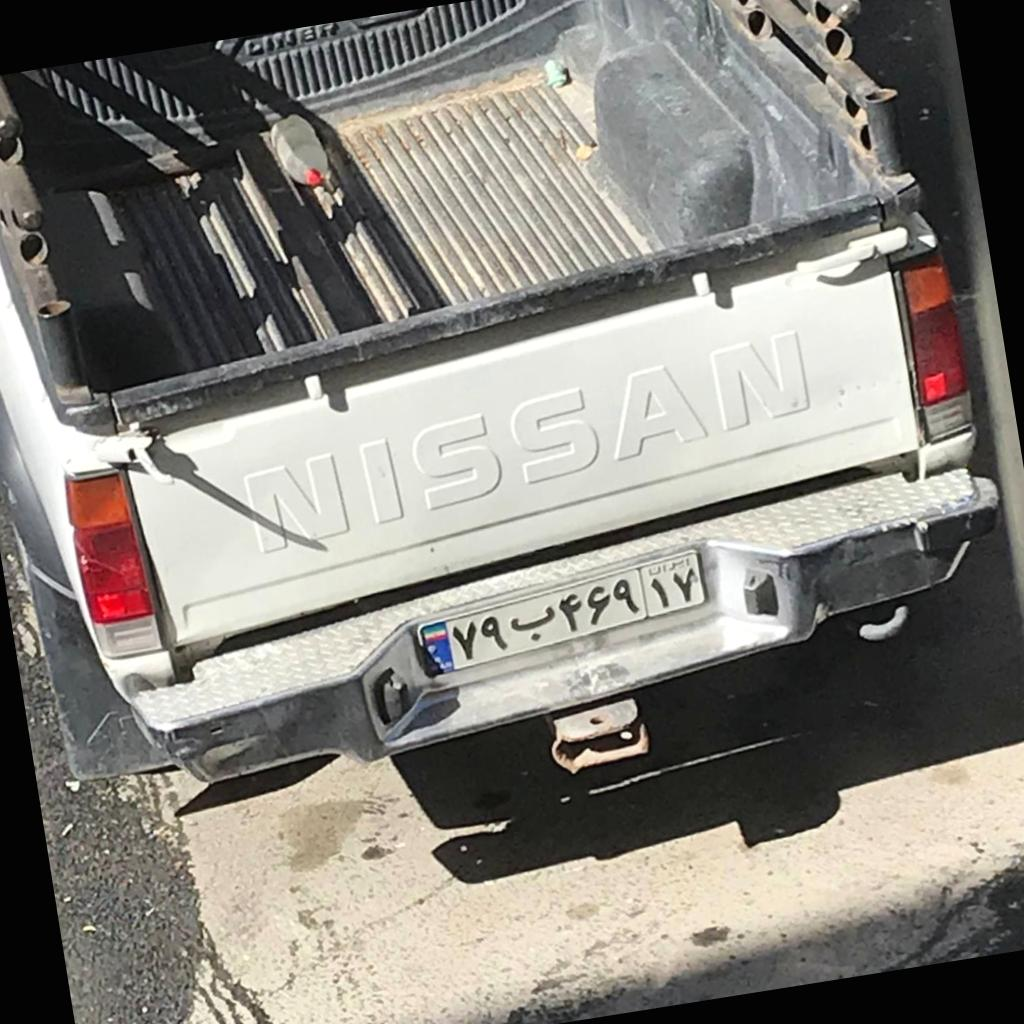Plates: (419, 552, 704, 677)
